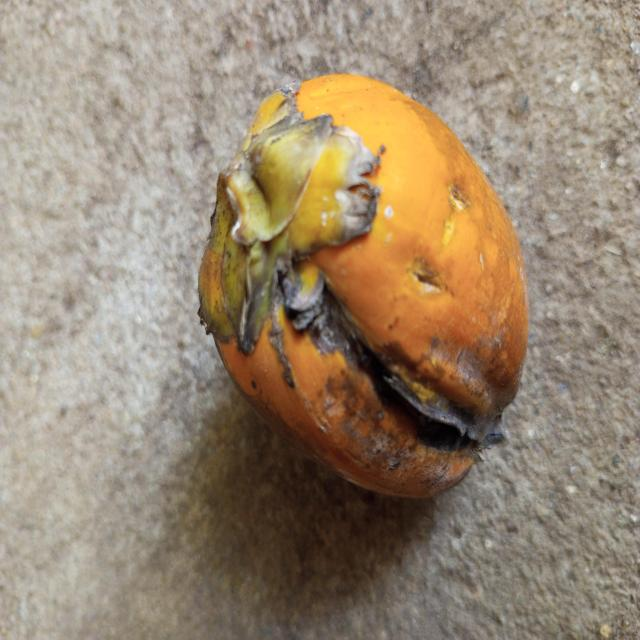damaged: (198, 73, 529, 502)
